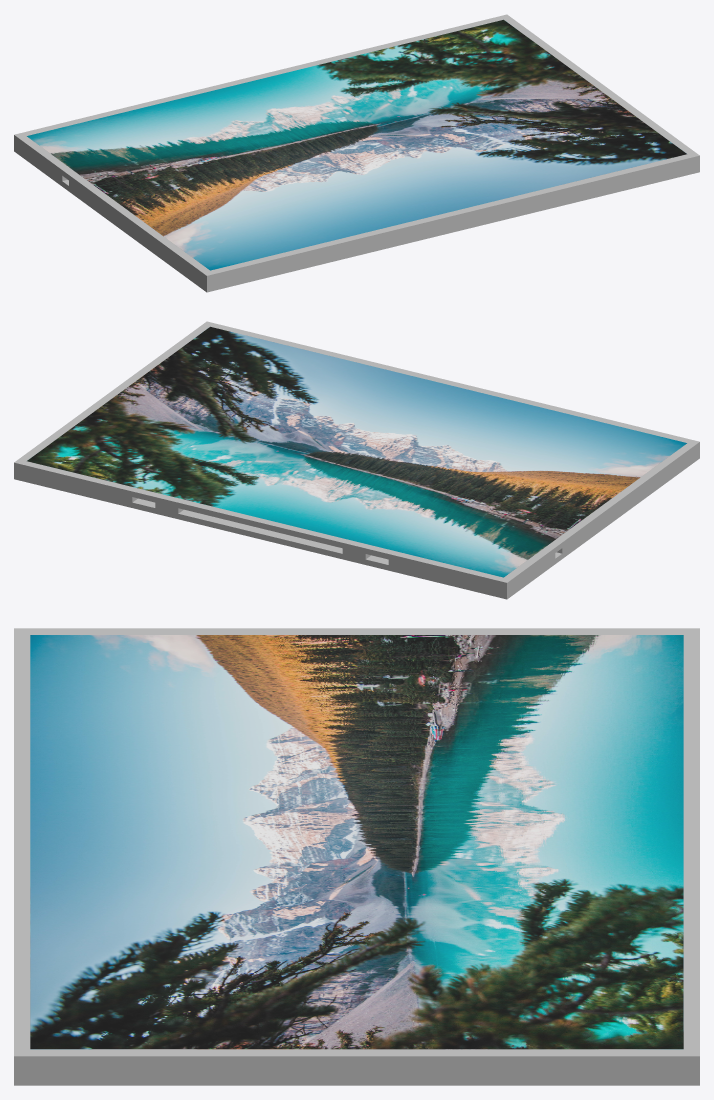
File: Type-0-Tablet-Standard.obj
The picture shows the model from 3 angles, top to bottom: view 1: azimuth 30°, elevation 25°; view 2: azimuth 150°, elevation 25°; view 3: azimuth 270°, elevation 25°; orthographic projection. The views are drawn at different scales.
Parts seen in each view (by area): view 1: Type-0-Tablet-Standard; view 2: Type-0-Tablet-Standard; view 3: Type-0-Tablet-Standard.
Boxes of the visible parts, x1,y1,x2,y2 form: Type-0-Tablet-Standard: [14, 14, 699, 292]; Type-0-Tablet-Standard: [14, 321, 699, 599]; Type-0-Tablet-Standard: [14, 628, 699, 1085].
Bounding box in the file's own units: 3.1 × 0.1 × 2.1.
